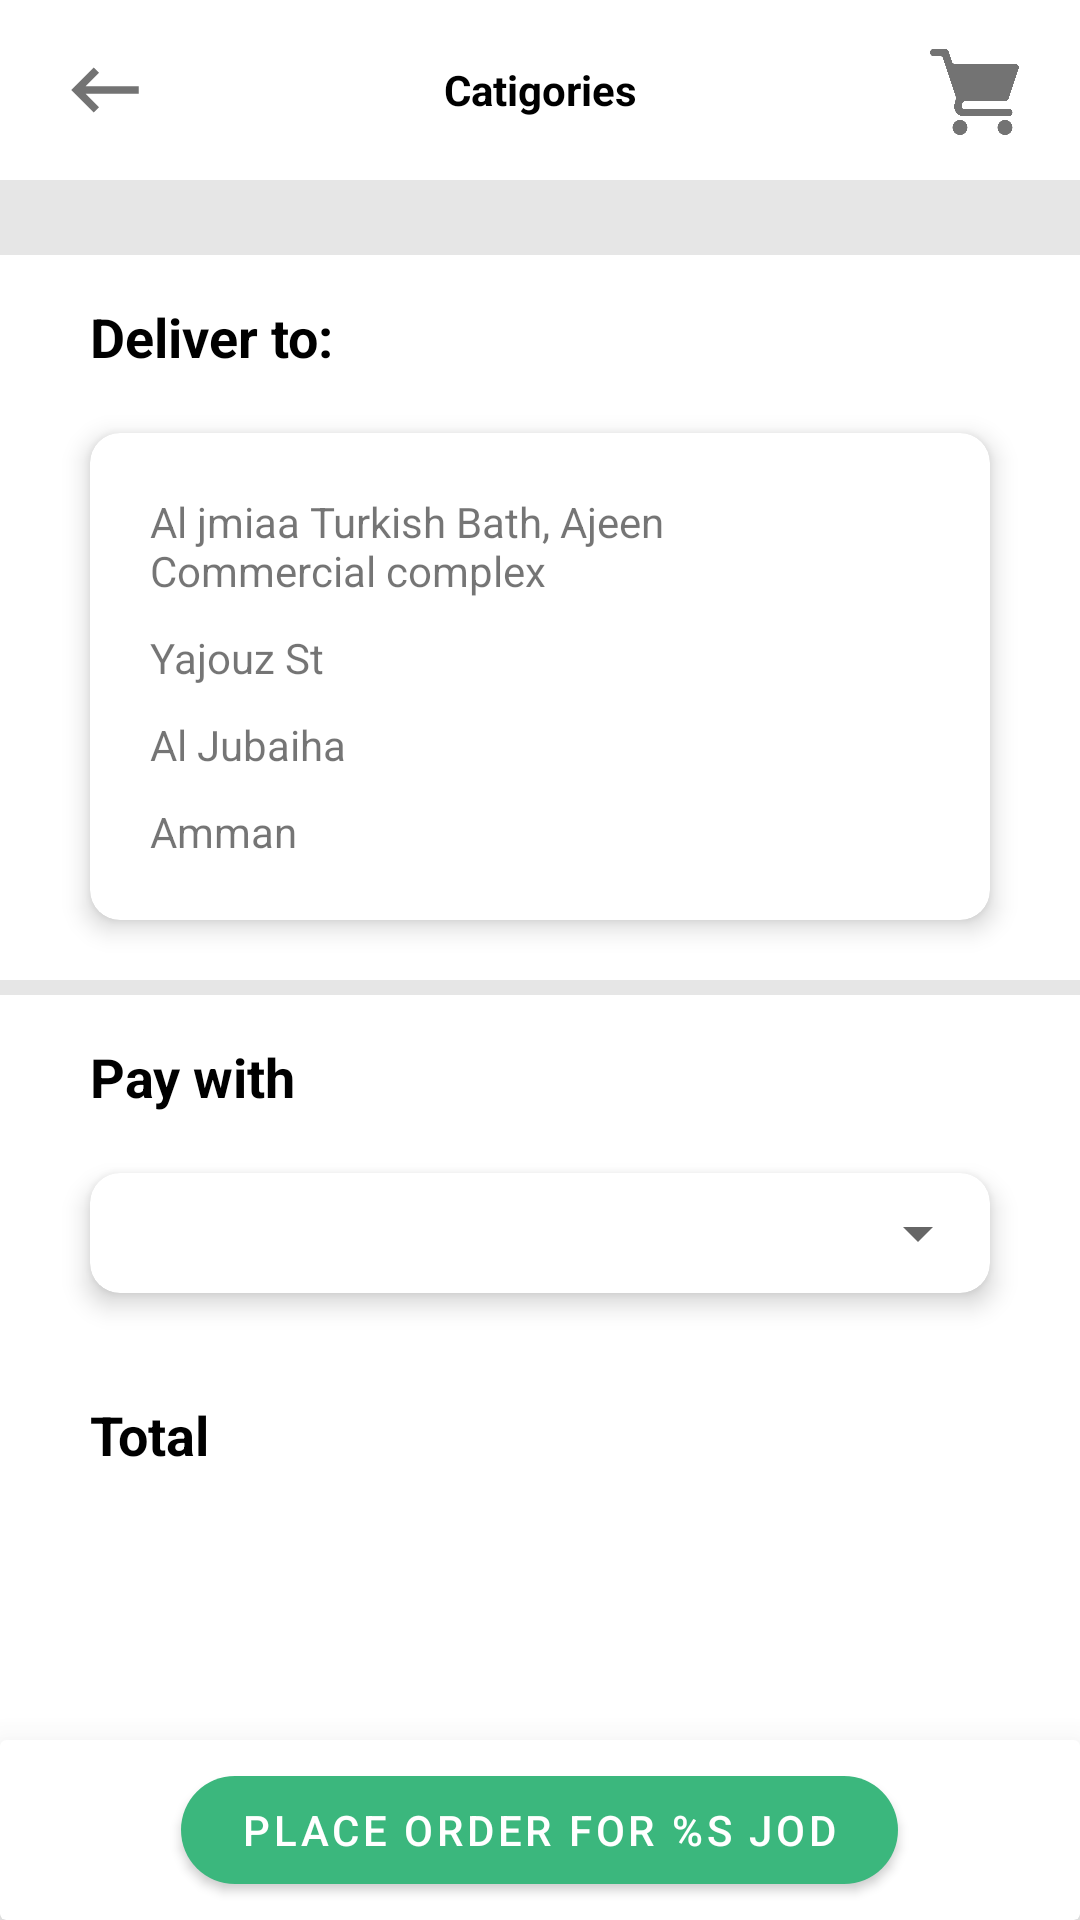

Point at icon controls on the screen. Image size 1080*1920, points as (x=x, y=y).
backspace: (x=105, y=90)
grocery store: (x=974, y=92)
